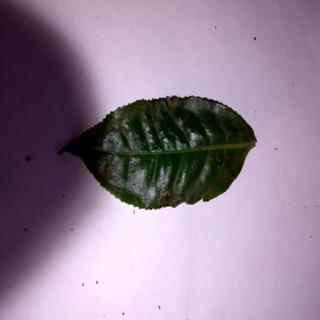Bird Eye Spot: (60, 96, 257, 209)
